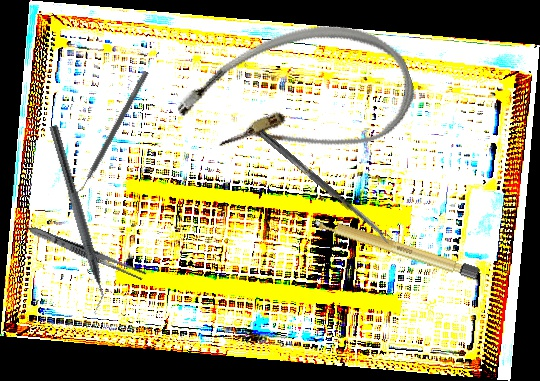Cannula: (166, 0, 426, 197)
Chopper: (36, 124, 115, 316)
Dressing Forceps: (25, 223, 149, 282)
Scalpel Handle: (310, 213, 481, 281)
Spatula Surgical: (72, 67, 150, 197)
Surgical Spoon: (257, 129, 393, 245)
